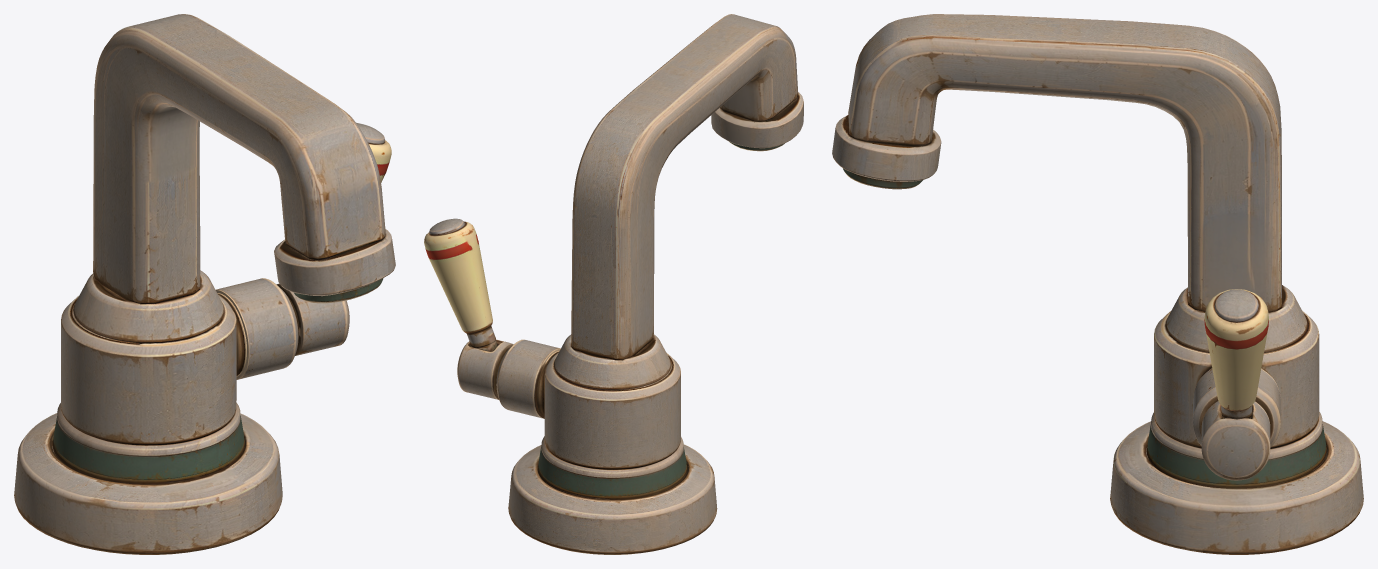
Rendered from P19_kitchen_faucet_Runtime_1k.glb.
3 views of the same model, side by side, from view 1: azimuth 30°, elevation 25°; view 2: azimuth 150°, elevation 25°; view 3: azimuth 270°, elevation 25° (orthographic). The views are drawn at different scales.
Parts seen in each view (by area): view 1: tripo_node_0ec11496; view 2: tripo_node_0ec11496; view 3: tripo_node_0ec11496.
Part boxes in pixels (x1=…): tripo_node_0ec11496: x1=14, y1=14, x2=395, y2=554; tripo_node_0ec11496: x1=424, y1=14, x2=803, y2=554; tripo_node_0ec11496: x1=832, y1=14, x2=1363, y2=554.
Size of the model in its own units: 0.2591 by 0.355 by 0.3571.
Materials: 1 (1 with a texture image).
